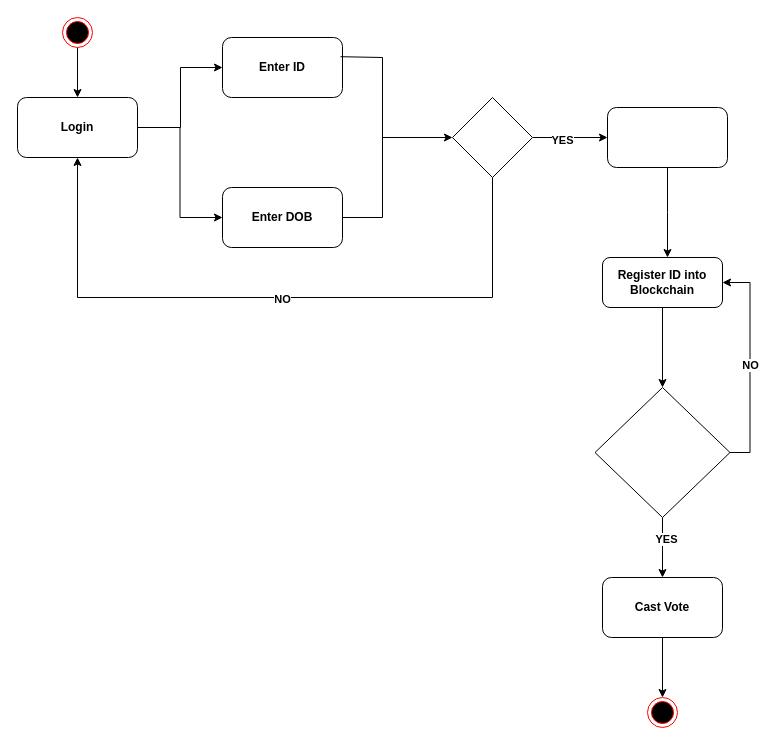
This 776x745 diagram has some shape labels left out. The centre of each missing label's shape, as x and y in pixels:
Matched with token?: point (662, 452)
Token Generated: point (667, 137)
Verify?: point (492, 137)
